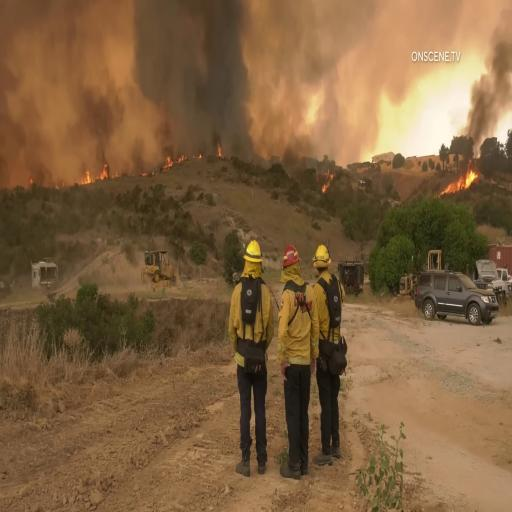smoke: (471, 18, 507, 135)
